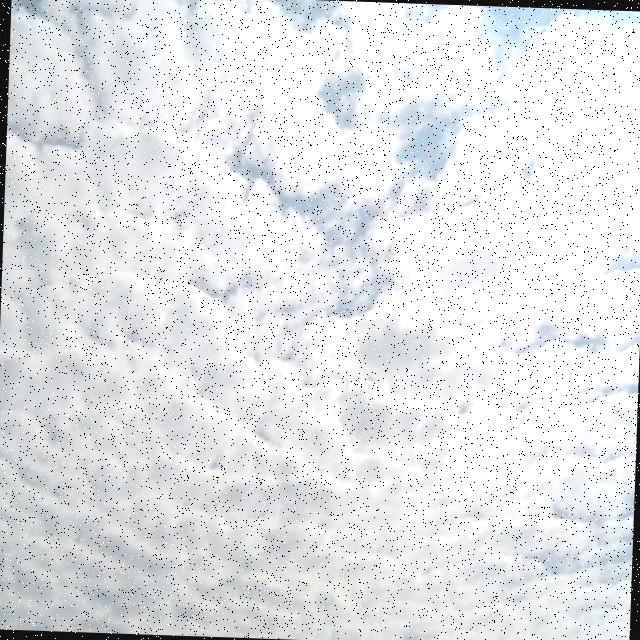Ac: (1, 1, 640, 621)
